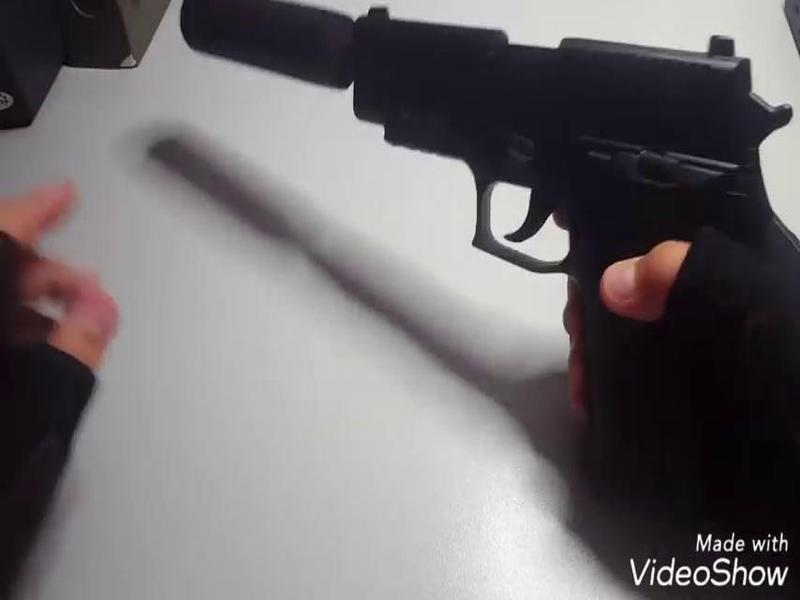Pistola: (361, 2, 773, 493)
